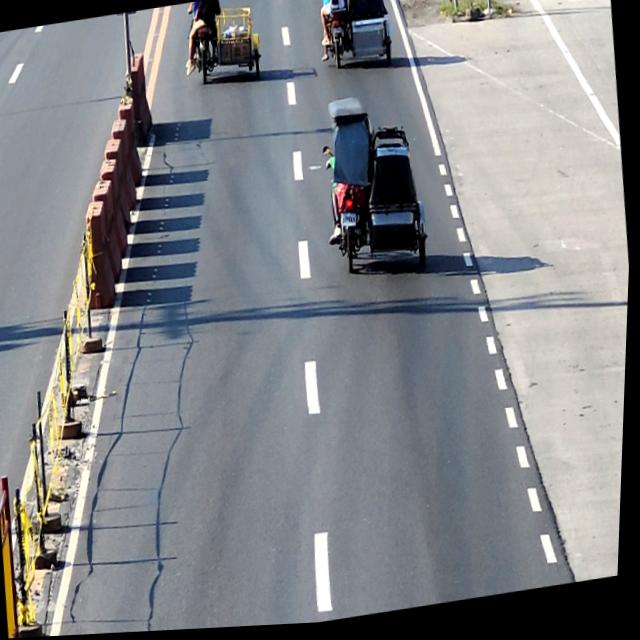License-Plate: (342, 216, 358, 232), (330, 28, 342, 37)
Tricycle: (316, 90, 438, 288), (185, 0, 267, 92), (312, 0, 396, 78)
